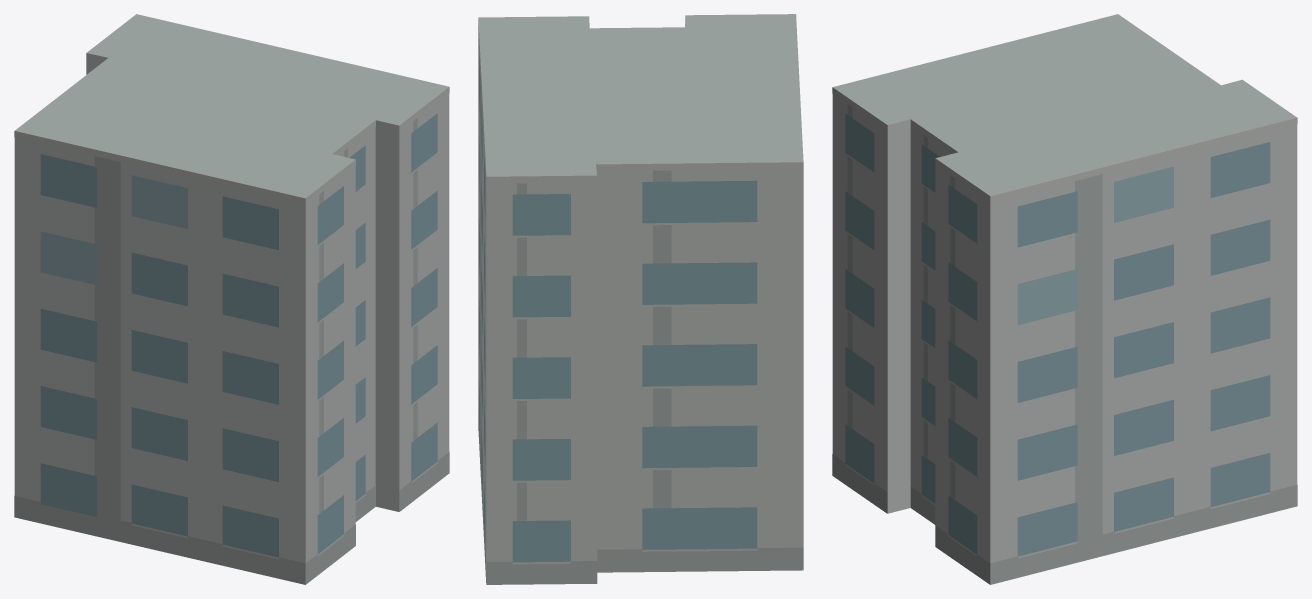
The model's file is survey-upis-32687786.glb.
3 renders of one model, left to right at view 1: azimuth 30°, elevation 25°; view 2: azimuth 150°, elevation 25°; view 3: azimuth 270°, elevation 25°, orthographic. The views are drawn at different scales.
Parts seen in each view (by area): view 1: survey-upis-32687786.tmp; view 2: survey-upis-32687786.tmp; view 3: survey-upis-32687786.tmp.
Boxes of the visible parts, left/top/right/bottom form: survey-upis-32687786.tmp: left=14, top=14, right=449, bottom=584; survey-upis-32687786.tmp: left=478, top=14, right=803, bottom=584; survey-upis-32687786.tmp: left=832, top=14, right=1297, bottom=584.
Bounding box in the file's own units: 14.49 × 14.4 × 15.62.
